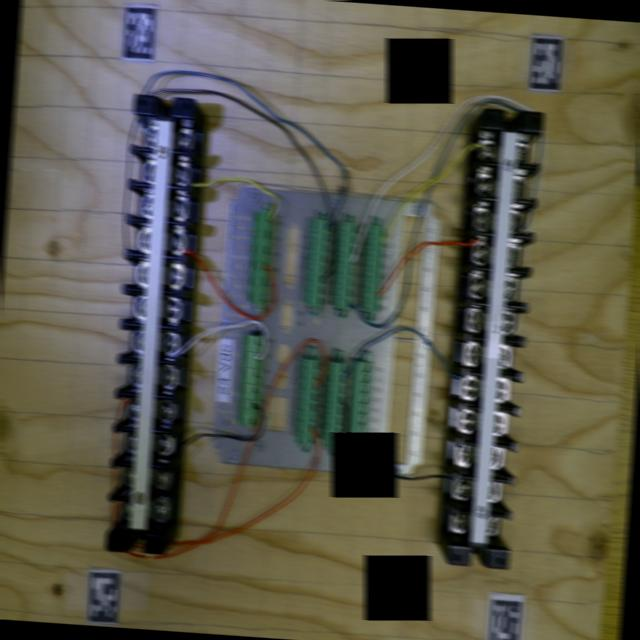Flathead_Block: (105, 95, 195, 553)
Phillips_Block: (447, 107, 544, 568)
Terminal_1: (246, 210, 274, 303), (237, 334, 265, 426)
Terminal_2: (321, 361, 348, 449), (294, 358, 321, 445), (303, 218, 330, 305), (332, 220, 358, 308), (360, 224, 386, 311)
